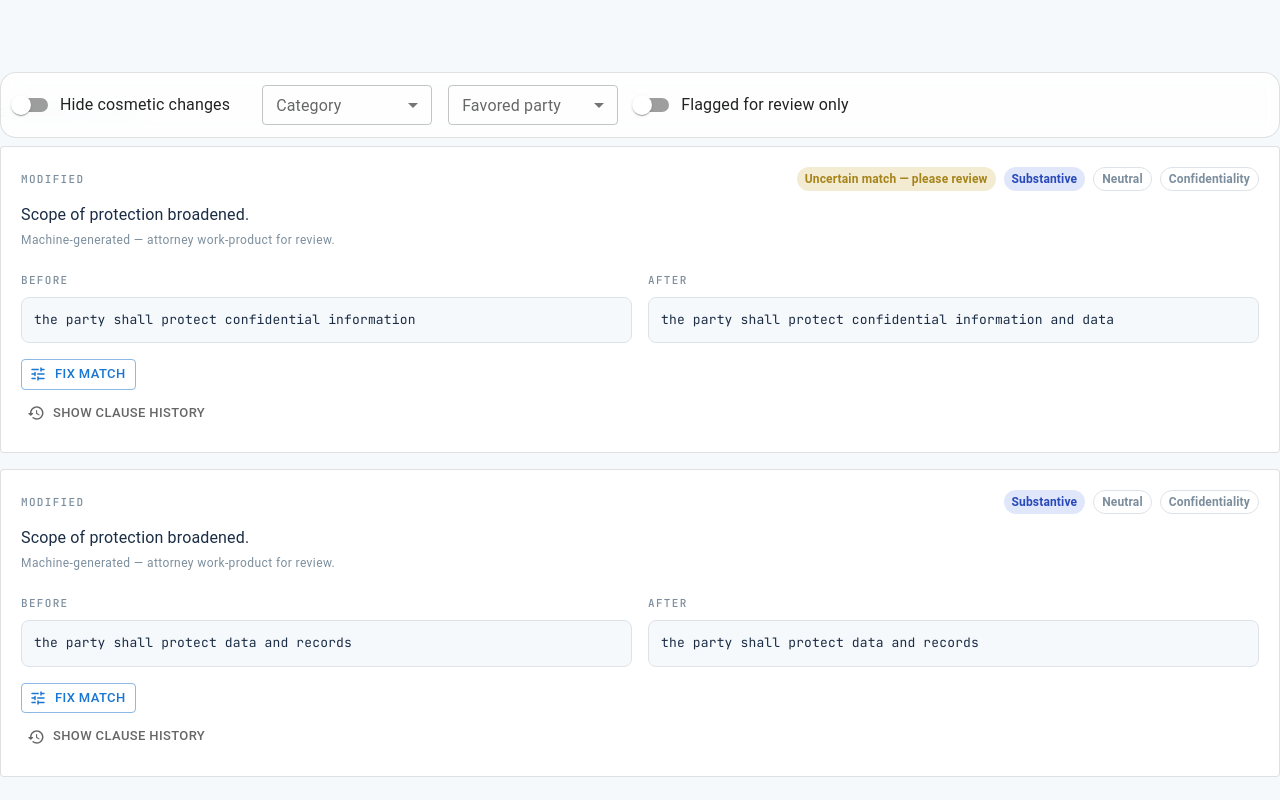
Test: flags low-confidence and applies a correction through the feed
Expected: the element with test id "low-confidence-badge" is shown, [797,167,996,191]
// Fix the first card's match.
Click the 1st button "Fix match" at x=78, y=374, box [21,359,136,390]
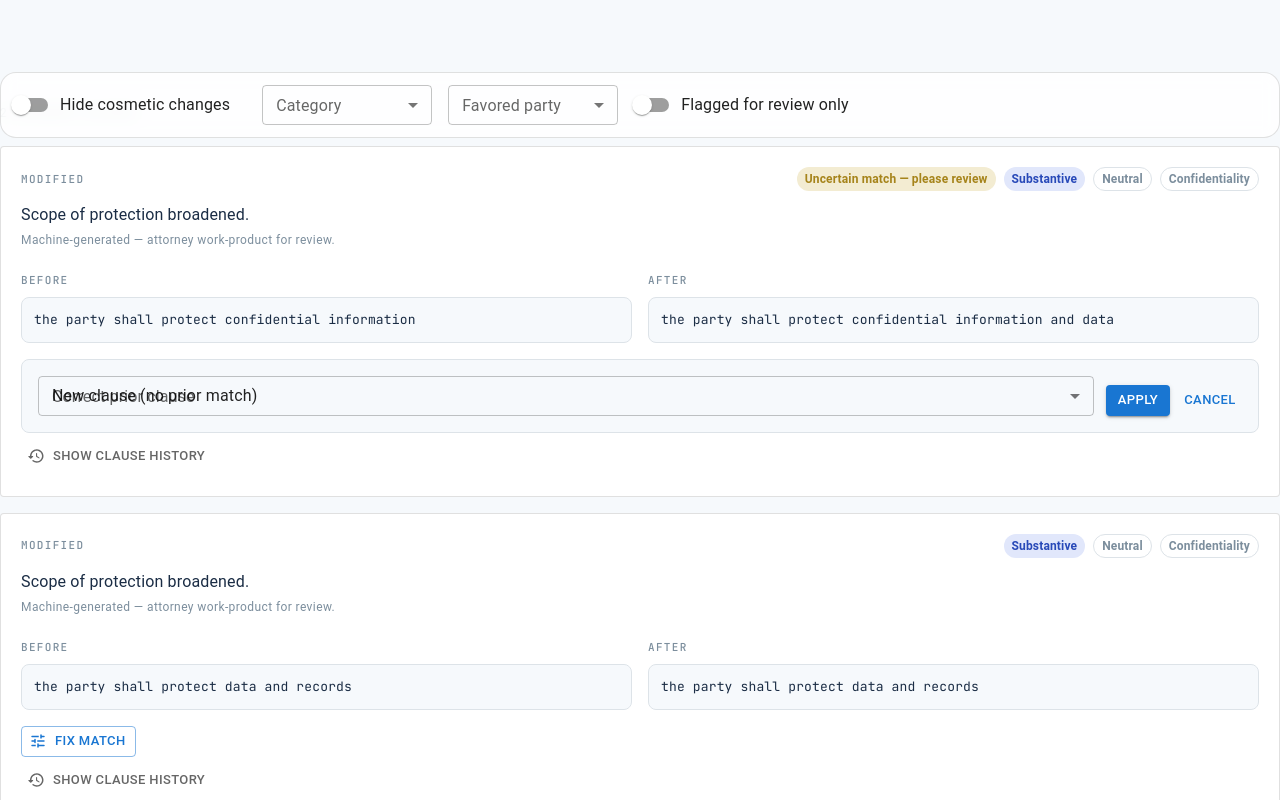
Select "New clause (no prior match)" in the dropdown labelled "Correct prior clause" at x=566, y=396, box [38,376,1094,416]
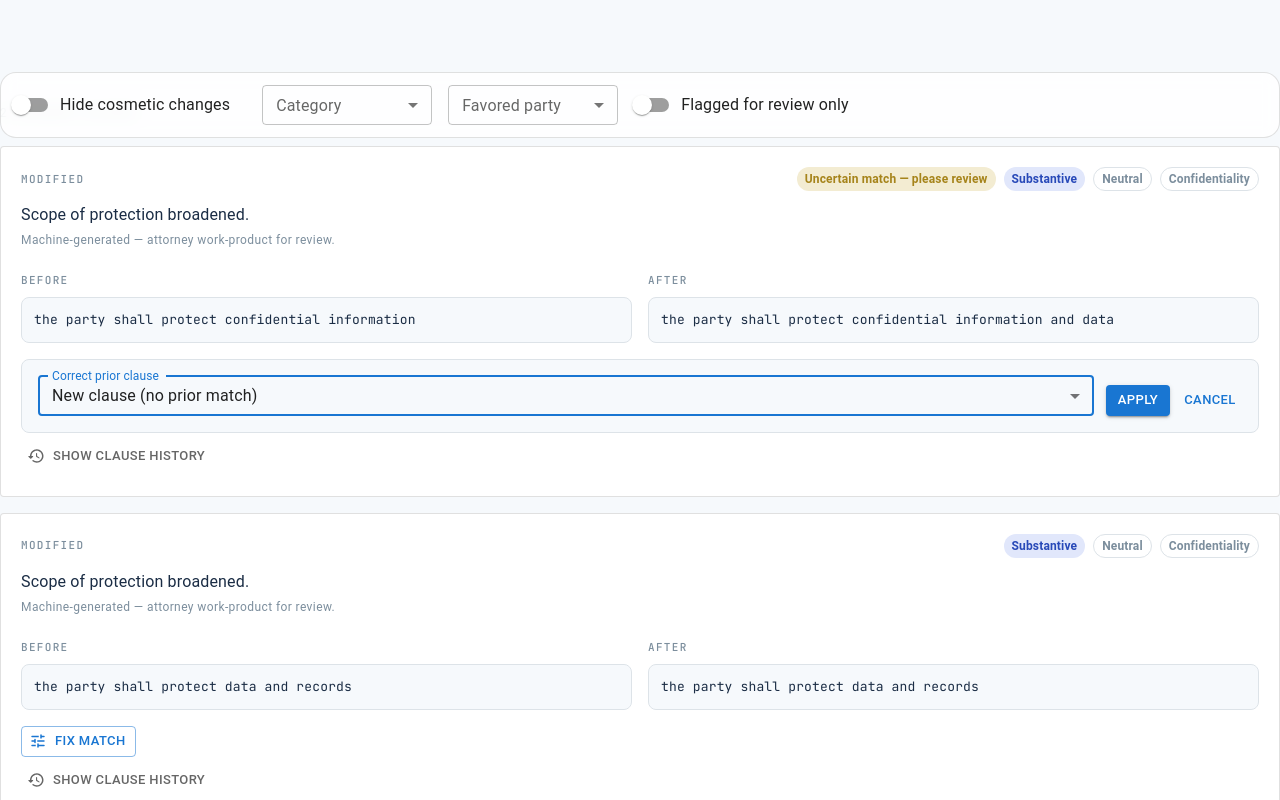
Click the button "Apply" at x=1138, y=401, box [1106,385,1170,416]
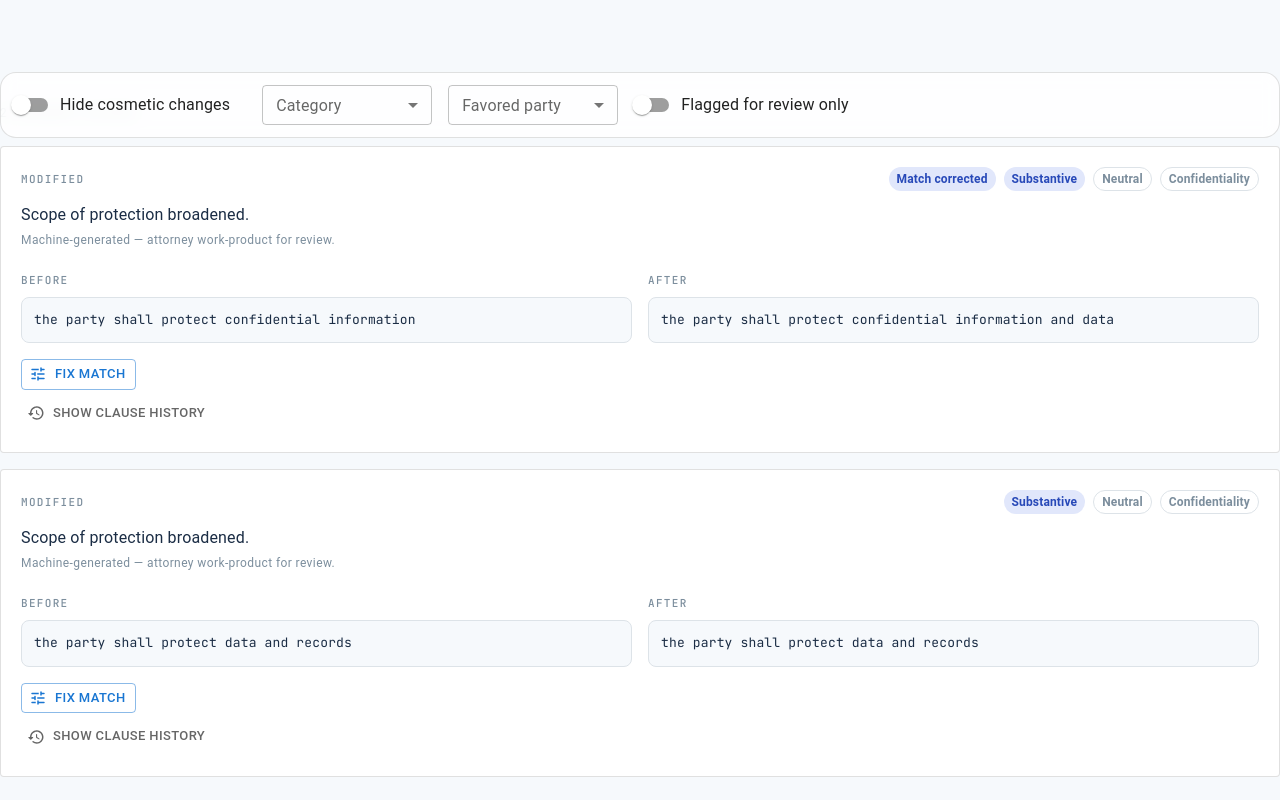
Expected: the element with test id "overridden-badge" is shown, [889,167,996,191]
